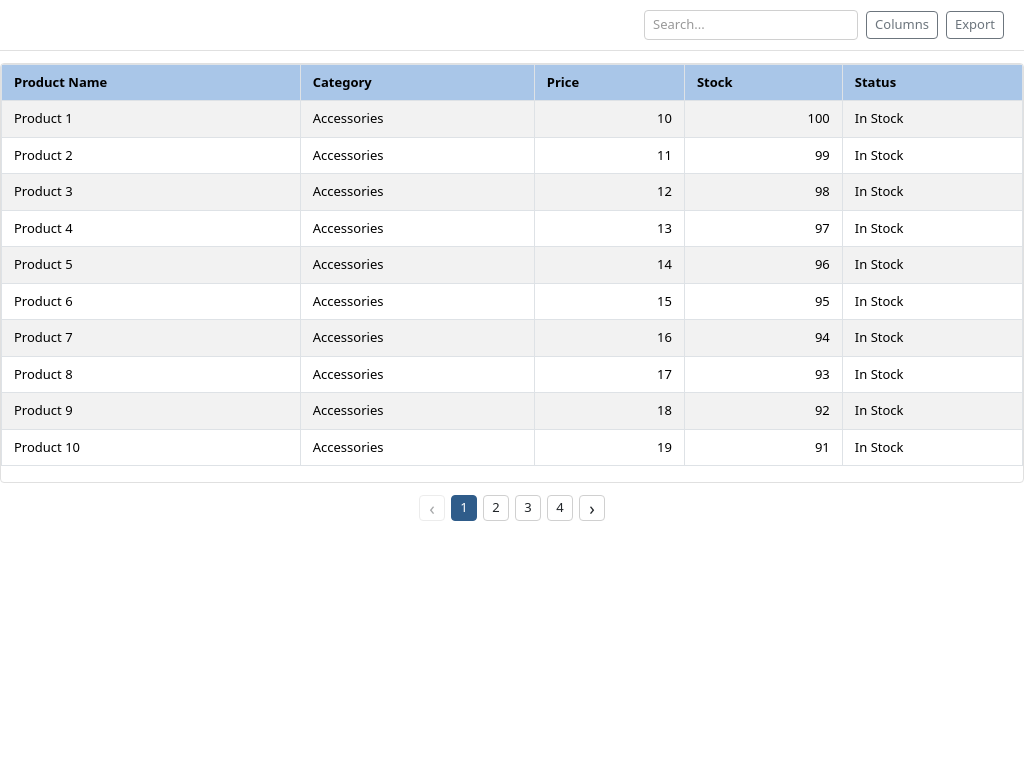
Test: DataTableComponent › 40-row dataset at page size 10 (spec-table-default-page-size-10.md) › disables Previous on page 1 and Next on the last page (4)
Expected: the button with class "data-table__page-nav" showing "‹" is disabled, x1=419 y1=495 x2=445 y2=521
Step 1. Click the button with class "data-table__page-nav" showing "›" → (592, 508), box x1=579 y1=495 x2=605 y2=521
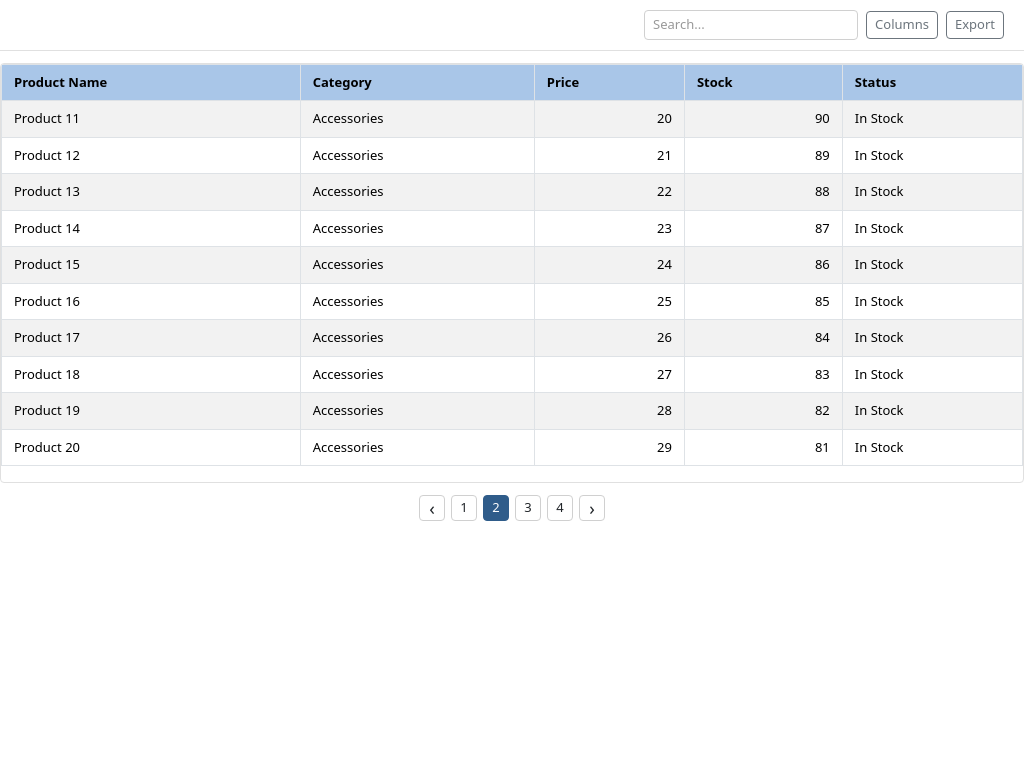
Step 2. Click the button with class "data-table__page-nav" showing "›" → (592, 508), box x1=579 y1=495 x2=605 y2=521
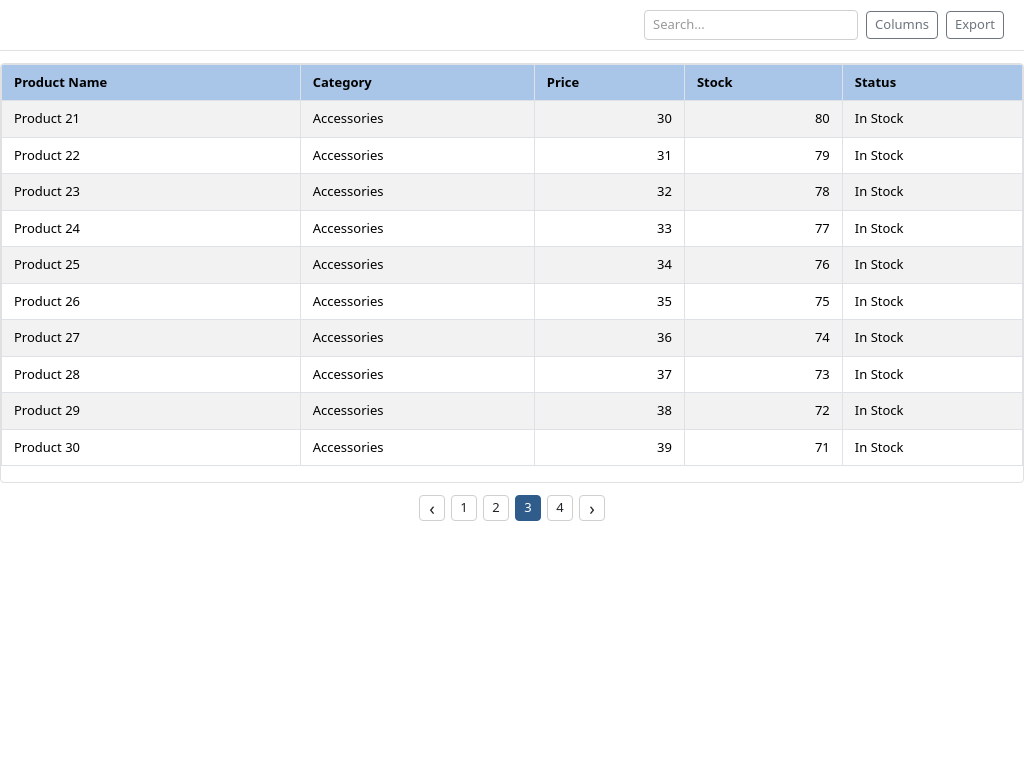
Step 3. Click the button with class "data-table__page-nav" showing "›" → (592, 508), box x1=579 y1=495 x2=605 y2=521
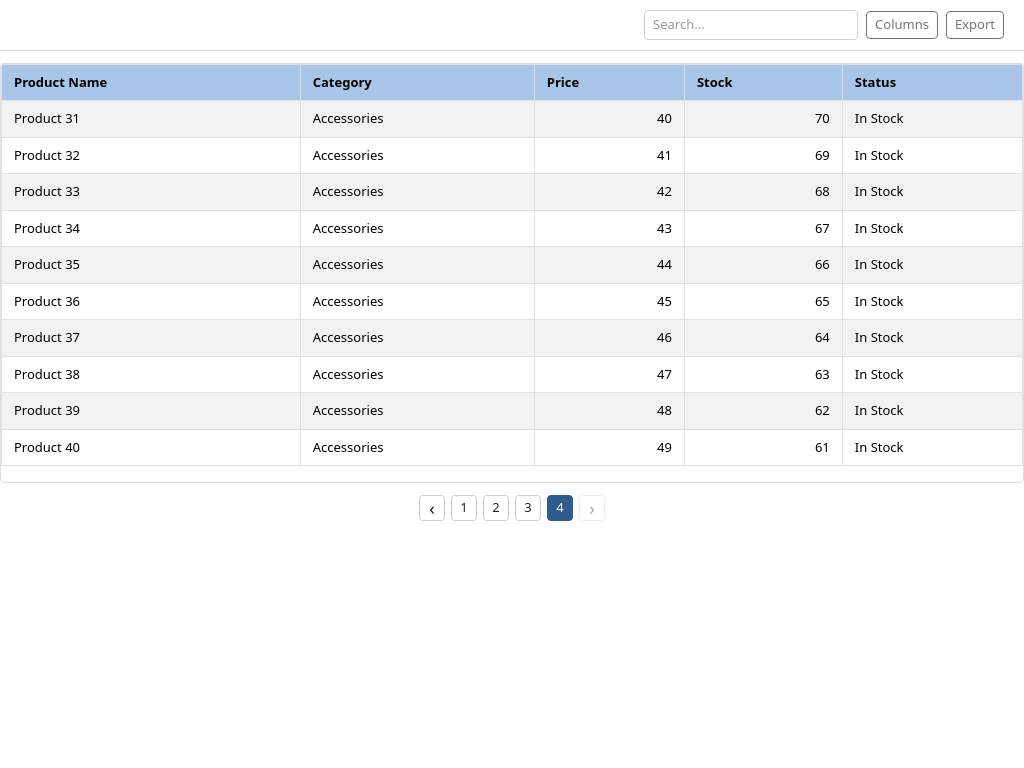
Result: the button with class "data-table__page-nav" showing "‹" is enabled at x1=419 y1=495 x2=445 y2=521
Result: the button with class "data-table__page-nav" showing "›" is disabled at x1=579 y1=495 x2=605 y2=521
